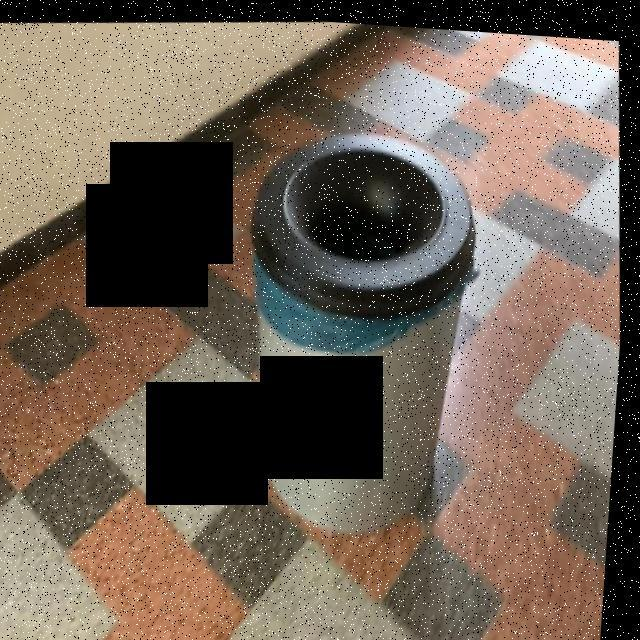bin: (205, 90, 526, 581)
